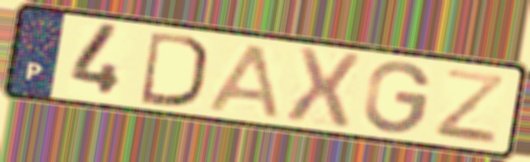4: (67, 20, 129, 104)
A: (204, 41, 283, 121)
D: (138, 28, 209, 110)
G: (361, 59, 435, 136)
X: (282, 44, 364, 131)
Z: (430, 66, 508, 148)
